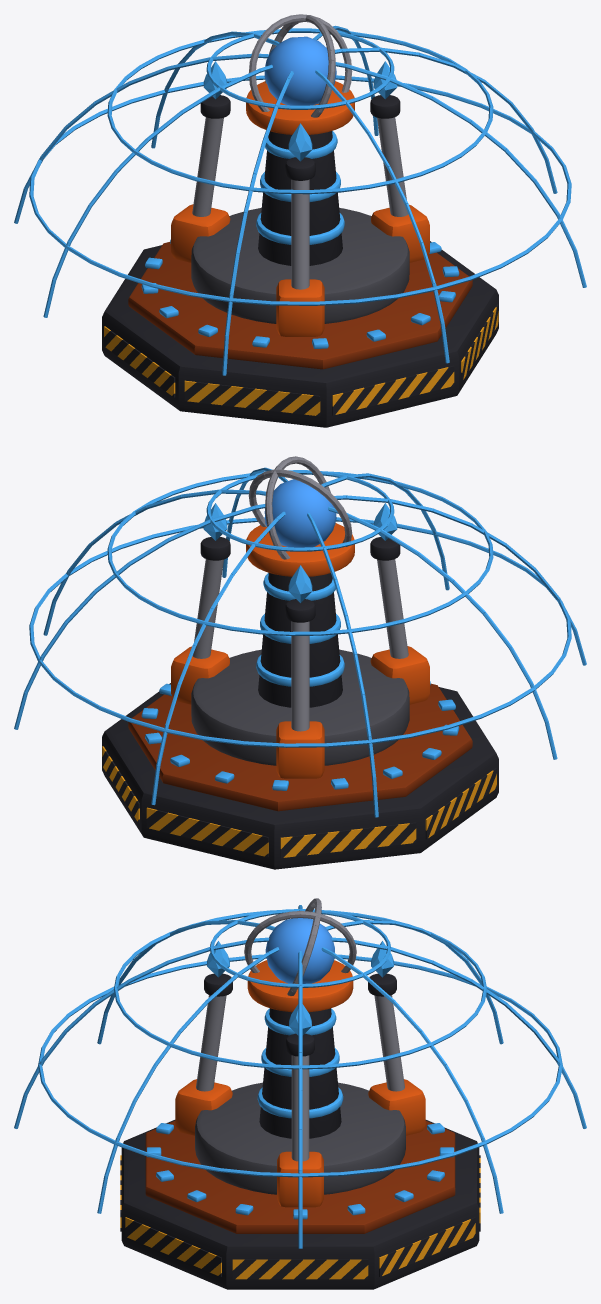
Rendered from ShieldGenerator.obj.
3 views of the same model, one above another, from view 1: azimuth 30°, elevation 25°; view 2: azimuth 150°, elevation 25°; view 3: azimuth 270°, elevation 25° (orthographic). The views are drawn at different scales.
Visible parts, largest first — view 1: ShieldGenerator; view 2: ShieldGenerator; view 3: ShieldGenerator.
Part boxes in pixels (x1,y1,x2,y2): ShieldGenerator: [14, 14, 586, 427]; ShieldGenerator: [14, 456, 586, 869]; ShieldGenerator: [14, 898, 586, 1289].
Bounding box in the file's own units: 1.95 × 1.18 × 1.95.
